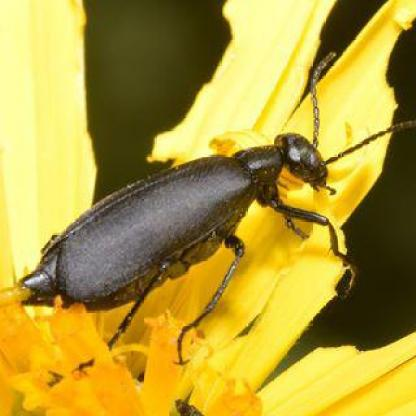beetle: (14, 51, 396, 345)
